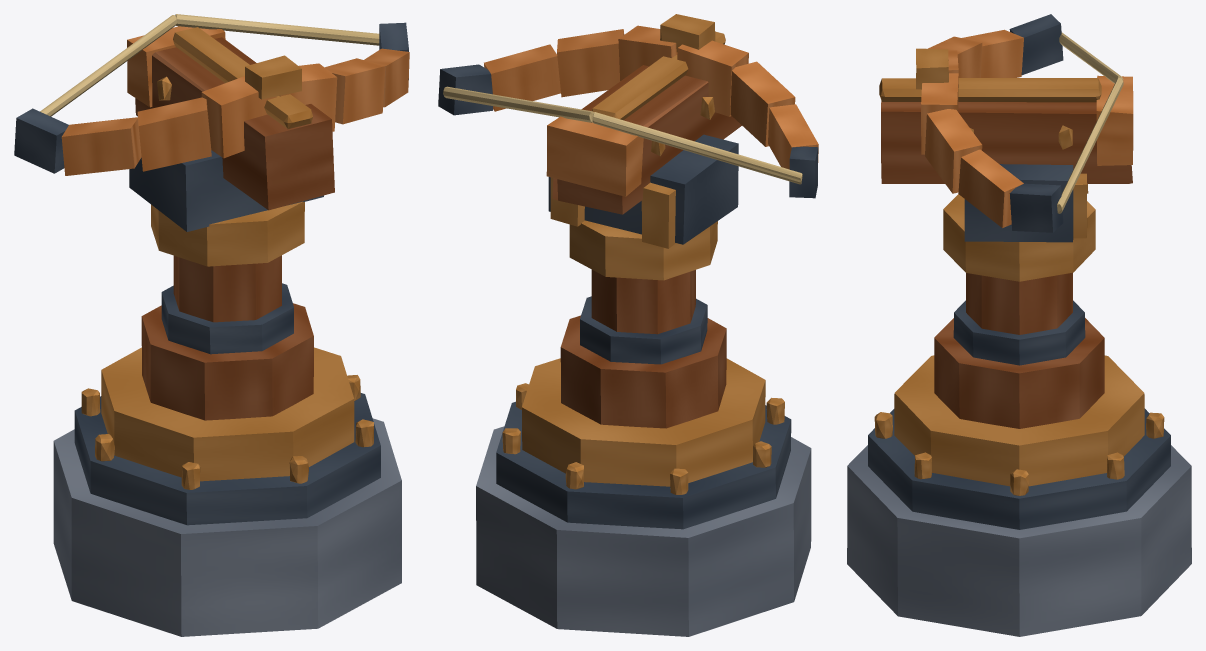
Rendered from BowTower.gltf.
3 views of the same model, side by side, from view 1: azimuth 30°, elevation 25°; view 2: azimuth 150°, elevation 25°; view 3: azimuth 270°, elevation 25° (orthographic). The views are drawn at different scales.
Parts seen in each view (by area): view 1: BowTower, head, bowstring02, bowstring01; view 2: BowTower, head, bowstring01, bowstring02; view 3: BowTower, head, bowstring02, bowstring01.
Boxes of the visible parts, x1,y1,x2,y2 form: BowTower: [53, 201, 401, 636]; head: [14, 22, 409, 231]; bowstring02: [175, 14, 379, 45]; bowstring01: [40, 15, 176, 116]; BowTower: [476, 220, 811, 636]; head: [438, 14, 818, 248]; bowstring01: [592, 112, 802, 184]; bowstring02: [443, 86, 593, 122]; BowTower: [847, 194, 1191, 636]; head: [879, 14, 1133, 242]; bowstring02: [1057, 77, 1123, 213]; bowstring01: [1059, 32, 1123, 83].
Bounding box in the file's own units: 1.25 × 1.62 × 0.9964.
6 materials, 6 textured.
